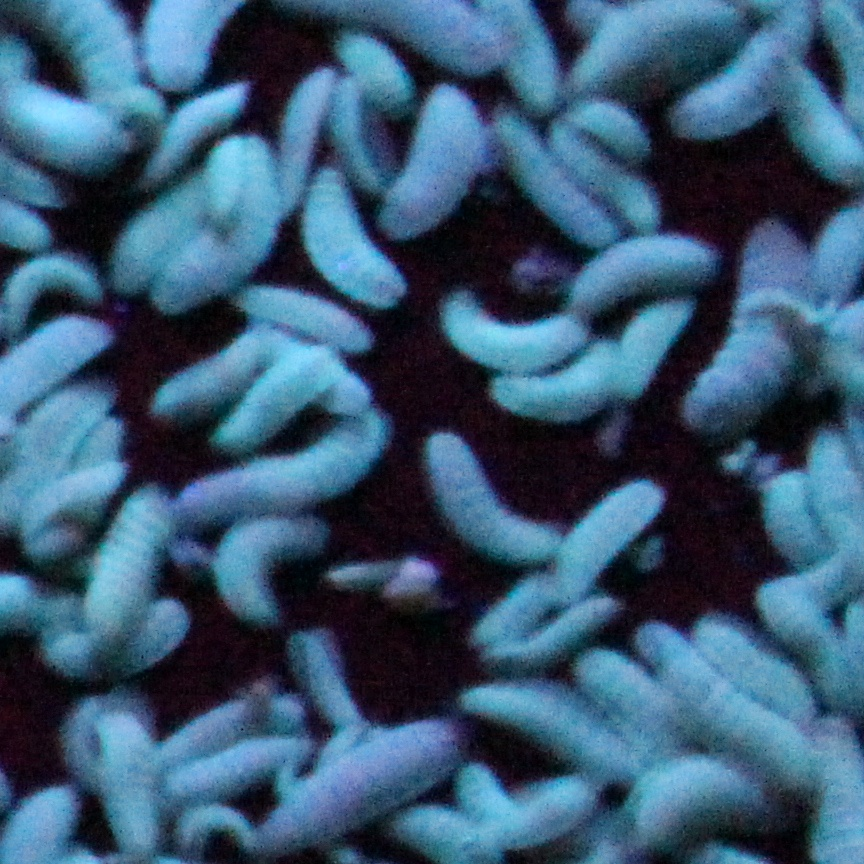larve: (416, 412, 534, 579), (260, 745, 457, 845), (472, 675, 638, 775), (721, 216, 791, 430), (207, 520, 328, 623), (83, 497, 175, 627), (542, 486, 668, 579), (205, 449, 377, 509), (445, 299, 564, 372), (592, 233, 711, 302), (417, 92, 471, 235), (278, 66, 325, 216), (101, 728, 157, 850), (649, 759, 729, 842), (799, 439, 862, 532), (311, 220, 391, 292), (337, 100, 395, 197), (781, 115, 858, 180), (295, 639, 358, 718), (157, 352, 235, 409), (814, 203, 861, 295), (718, 47, 795, 100), (675, 672, 737, 735), (518, 162, 568, 239), (117, 212, 169, 286), (778, 590, 831, 662), (621, 306, 659, 402), (488, 630, 581, 668), (347, 32, 408, 89), (249, 297, 354, 330), (515, 373, 609, 409), (248, 377, 304, 437), (178, 240, 239, 295), (24, 399, 94, 446), (504, 796, 592, 833), (578, 95, 638, 146), (174, 752, 251, 789), (594, 165, 648, 212), (719, 629, 765, 675), (215, 138, 238, 213)
